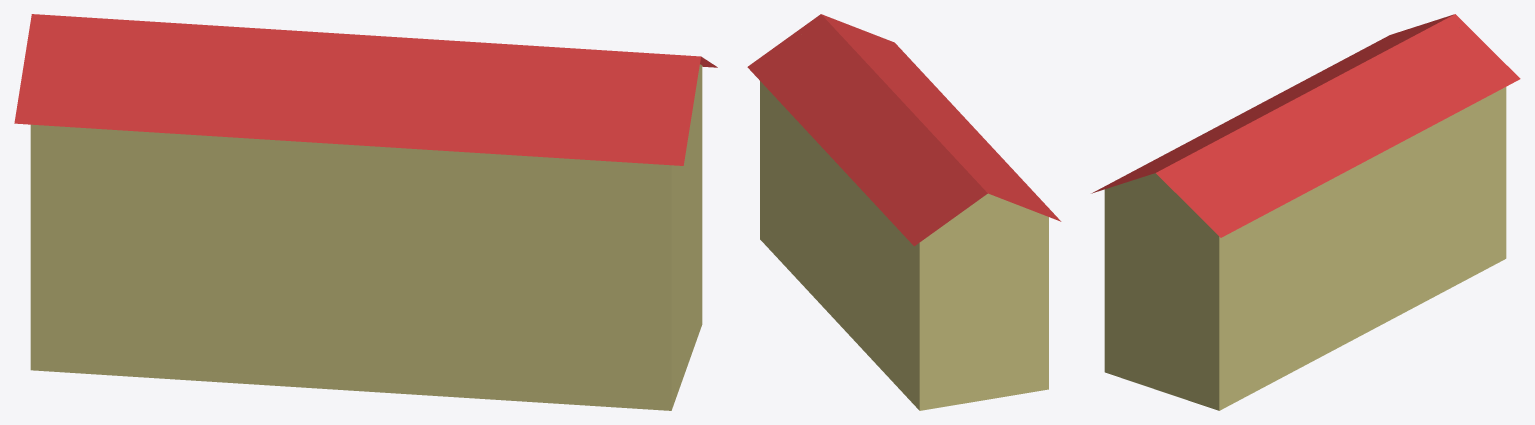
3 renders of one model, left to right at view 1: azimuth 30°, elevation 25°; view 2: azimuth 150°, elevation 25°; view 3: azimuth 270°, elevation 25°, orthographic. The views are drawn at different scales.
Visible parts, largest first — view 1: group_5, group_3, group_4; view 2: group_5, group_3, group_4; view 3: group_5, group_3, group_4.
Part boxes in pixels (box(x1,y1,x2,y2)): group_5: box(30, 64, 702, 410); group_3: box(14, 14, 717, 165); group_4: box(14, 17, 643, 163); group_5: box(760, 81, 1048, 410); group_3: box(750, 14, 1061, 235); group_4: box(747, 14, 1060, 246); group_5: box(1104, 87, 1506, 410); group_3: box(1091, 14, 1508, 226); group_4: box(1156, 14, 1520, 237).
Size of the model in its own units: 35.18 by 31.52 by 17.94.
